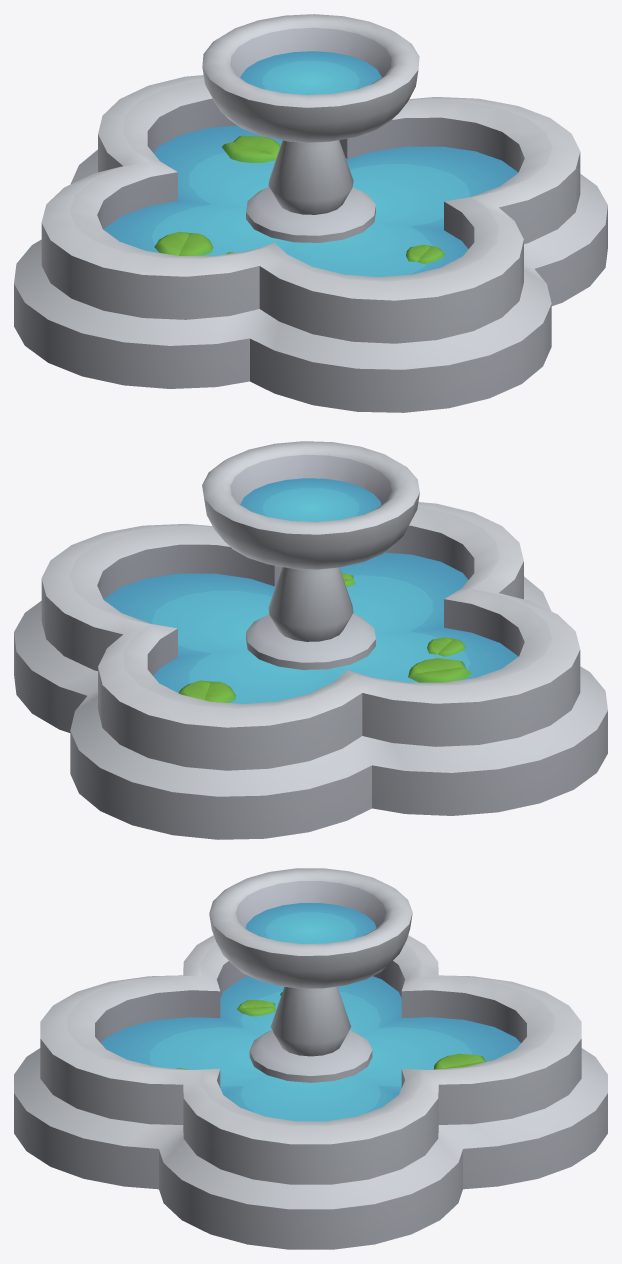
The model's file is fountain.glb.
The picture shows the model from 3 angles, top to bottom: view 1: azimuth 30°, elevation 25°; view 2: azimuth 150°, elevation 25°; view 3: azimuth 270°, elevation 25°; orthographic projection. The views are drawn at different scales.
Parts seen in each view (by area): view 1: fountain, fountain_water, fountain_leaves; view 2: fountain, fountain_water, fountain_leaves; view 3: fountain, fountain_water, fountain_leaves.
Boxes of the visible parts, <box> form: fountain: <box>14,14,607,412</box>; fountain_water: <box>103,51,518,276</box>; fountain_leaves: <box>154,135,444,263</box>; fountain: <box>14,441,607,839</box>; fountain_water: <box>103,478,518,703</box>; fountain_leaves: <box>179,573,472,702</box>; fountain: <box>14,868,607,1249</box>; fountain_water: <box>101,903,520,1121</box>; fountain_leaves: <box>177,992,485,1069</box>.
Size of the model in its own units: 4 by 1.6 by 4.
Materials: 1 (1 with a texture image).
